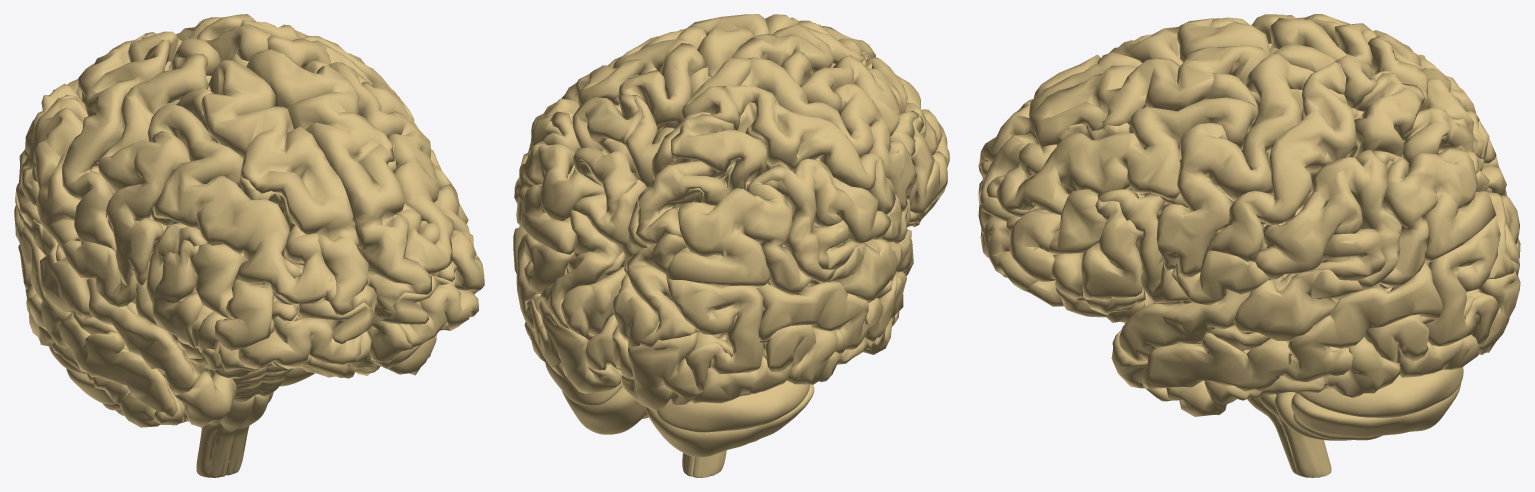
Rendered from nervous-system.glb.
3 renders of one model, left to right at view 1: azimuth 30°, elevation 25°; view 2: azimuth 150°, elevation 25°; view 3: azimuth 270°, elevation 25°, orthographic. The views are drawn at different scales.
Parts seen in each view (by area): view 1: real-cerebrum-middle-frontal-gyrus-right, real-cerebrum-superior-frontal-gyrus-right, real-cerebrum-superior-frontal-gyrus-left, real-cerebrum-precentral-gyrus-right, real-cerebrum-middle-frontal-gyrus-left, real-cerebrum-postcentral-gyrus-right, real-cerebrum-middle-temporal-gyrus-right, real-cerebrum-superior-temporal-gyrus-lateral-part-right, real-cerebrum-supramarginal-gyrus-right, real-cerebrum-orbital-gyri-frontomarginal-gyrus-and-sulcus-r, real-cerebrum-triangular-part-of-inferior-frontal-gyrus-righ, real-cerebrum-inferior-frontal-sulcus-right (+27 smaller); view 2: real-cerebrum-angular-gyrus-right, real-cerebrum-lateral-occipital-gyrus-middle-occipital-gyrus (×2), real-cerebrum-superior-parietal-lobule-right, real-cerebrum-postcentral-gyrus-right, real-cerebrum-supramarginal-gyrus-right, real-cerebrum-angular-gyrus-left, real-cerebrum-precentral-gyrus-right, real-cerebrum-middle-temporal-gyrus-right, real-cerebrum-superior-parietal-lobule-left, real-cerebrum-middle-frontal-gyrus-right, real-cerebrum-inferior-temporal-gyrus-right, real-cerebellum-superior-semilunar-lobule-right (+31 smaller); view 3: real-cerebrum-middle-frontal-gyrus-left, real-cerebrum-precentral-gyrus-left, real-cerebrum-middle-temporal-gyrus-left, real-cerebrum-superior-frontal-gyrus-left, real-cerebrum-postcentral-gyrus-left, real-cerebrum-supramarginal-gyrus-left, real-cerebrum-superior-temporal-gyrus-lateral-part-left, real-cerebrum-angular-gyrus-left, real-cerebrum-inferior-temporal-gyrus-left, real-cerebrum-superior-frontal-gyrus-right, real-cerebrum-superior-parietal-lobule-left, real-cerebrum-lateral-occipital-gyrus-middle-occipital-gyrus (+26 smaller).
Part boxes in pixels (x1=…): real-cerebrum-middle-frontal-gyrus-right: x1=147, y1=103, x2=336, y2=350; real-cerebrum-superior-frontal-gyrus-right: x1=201, y1=60, x2=376, y2=320; real-cerebrum-superior-frontal-gyrus-left: x1=230, y1=49, x2=431, y2=327; real-cerebrum-precentral-gyrus-right: x1=98, y1=53, x2=208, y2=285; real-cerebrum-middle-frontal-gyrus-left: x1=328, y1=62, x2=484, y2=291; real-cerebrum-postcentral-gyrus-right: x1=62, y1=40, x2=170, y2=251; real-cerebrum-middle-temporal-gyrus-right: x1=14, y1=205, x2=177, y2=418; real-cerebrum-superior-temporal-gyrus-lateral-part-right: x1=25, y1=219, x2=199, y2=395; real-cerebrum-supramarginal-gyrus-right: x1=15, y1=97, x2=87, y2=249; real-cerebrum-orbital-gyri-frontomarginal-gyrus-and-sulcus-r: x1=238, y1=308, x2=361, y2=369; real-cerebrum-triangular-part-of-inferior-frontal-gyrus-righ: x1=152, y1=239, x2=203, y2=347; real-cerebrum-inferior-frontal-sulcus-right: x1=151, y1=206, x2=246, y2=318; real-cerebrum-angular-gyrus-right: x1=666, y1=164, x2=812, y2=294; real-cerebrum-lateral-occipital-gyrus-middle-occipital-gyrus (×2): x1=516, y1=234, x2=763, y2=391; real-cerebrum-superior-parietal-lobule-right: x1=636, y1=113, x2=766, y2=246; real-cerebrum-postcentral-gyrus-right: x1=724, y1=85, x2=895, y2=214; real-cerebrum-supramarginal-gyrus-right: x1=762, y1=158, x2=891, y2=282; real-cerebrum-angular-gyrus-left: x1=516, y1=111, x2=604, y2=254; real-cerebrum-precentral-gyrus-right: x1=741, y1=57, x2=916, y2=211; real-cerebrum-middle-temporal-gyrus-right: x1=756, y1=271, x2=906, y2=353; real-cerebrum-superior-parietal-lobule-left: x1=571, y1=94, x2=644, y2=233; real-cerebrum-middle-frontal-gyrus-right: x1=800, y1=55, x2=949, y2=167; real-cerebrum-inferior-temporal-gyrus-right: x1=760, y1=316, x2=895, y2=384; real-cerebellum-superior-semilunar-lobule-right: x1=656, y1=380, x2=809, y2=432; real-cerebrum-middle-frontal-gyrus-left: x1=986, y1=97, x2=1258, y2=281; real-cerebrum-precentral-gyrus-left: x1=1156, y1=52, x2=1314, y2=277; real-cerebrum-middle-temporal-gyrus-left: x1=1141, y1=262, x2=1442, y2=391; real-cerebrum-superior-frontal-gyrus-left: x1=978, y1=45, x2=1267, y2=205; real-cerebrum-postcentral-gyrus-left: x1=1205, y1=61, x2=1356, y2=262; real-cerebrum-supramarginal-gyrus-left: x1=1254, y1=150, x2=1401, y2=289; real-cerebrum-superior-temporal-gyrus-lateral-part-left: x1=1119, y1=269, x2=1364, y2=362; real-cerebrum-angular-gyrus-left: x1=1371, y1=148, x2=1496, y2=288; real-cerebrum-inferior-temporal-gyrus-left: x1=1166, y1=314, x2=1434, y2=416; real-cerebrum-superior-frontal-gyrus-right: x1=978, y1=18, x2=1278, y2=181; real-cerebrum-superior-parietal-lobule-left: x1=1354, y1=73, x2=1484, y2=173; real-cerebrum-lateral-occipital-gyrus-middle-occipital-gyrus: x1=1425, y1=215, x2=1500, y2=346.
Size of the model in its own units: 0.1378 by 0.1608 by 0.1807.
